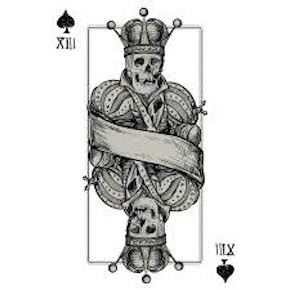KingOfSpades: (50, 2, 243, 290)
